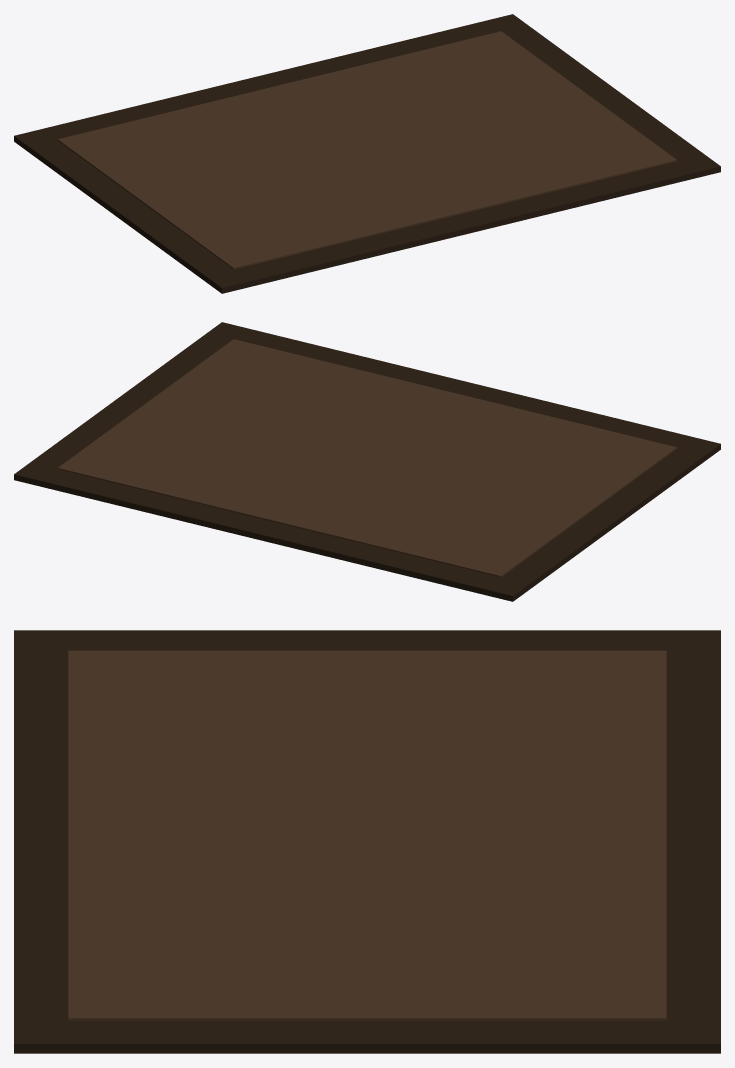
File: welt_teppich.glb
3 views of the same model, one above another, from view 1: azimuth 30°, elevation 25°; view 2: azimuth 150°, elevation 25°; view 3: azimuth 270°, elevation 25° (orthographic). The views are drawn at different scales.
Parts seen in each view (by area): view 1: grund, rand; view 2: grund, rand; view 3: grund, rand.
Part boxes in pixels (x1=…): grund: x1=57, y1=31, x2=677, y2=269; rand: x1=14, y1=14, x2=720, y2=293; grund: x1=57, y1=339, x2=677, y2=577; rand: x1=14, y1=322, x2=720, y2=601; grund: x1=68, y1=650, x2=666, y2=1020; rand: x1=14, y1=630, x2=720, y2=1053.
Size of the model in its own units: 1.8 by 0.025 by 1.3.
